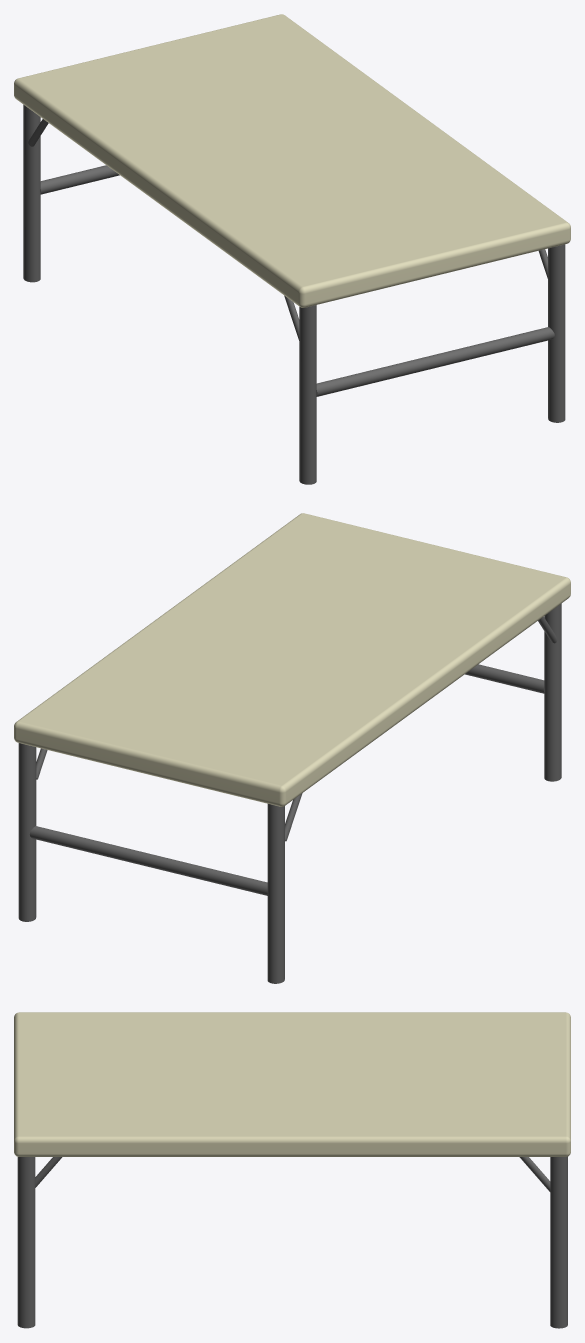
File: definitely_not_the_P5_table.fbx
3 renders of one model, top to bottom at view 1: azimuth 30°, elevation 25°; view 2: azimuth 150°, elevation 25°; view 3: azimuth 270°, elevation 25°, orthographic. The views are drawn at different scales.
Parts seen in each view (by area): view 1: pCube1, pCylinder1 (×2), pCylinder10, pCylinder4, pCylinder9; view 2: pCube1, pCylinder4 (×2), pCylinder9, pCylinder1, pCylinder10; view 3: pCube1, pCylinder1, pCylinder4.
Part boxes in pixels (x1,y1,x2,y2): pCube1: (14, 14, 570, 307); pCylinder1 (×2): (299, 244, 565, 484); pCylinder10: (316, 327, 554, 396); pCylinder4: (23, 104, 40, 282); pCylinder9: (40, 165, 119, 194); pCube1: (14, 513, 570, 806); pCylinder4 (×2): (18, 743, 284, 983); pCylinder9: (29, 826, 267, 895); pCylinder1: (544, 603, 561, 781); pCylinder10: (465, 664, 544, 693); pCube1: (14, 1012, 570, 1156); pCylinder1: (17, 1157, 35, 1328); pCylinder4: (550, 1156, 567, 1328).
Size of the model in its own units: 4.03 by 2.83 by 7.43.
